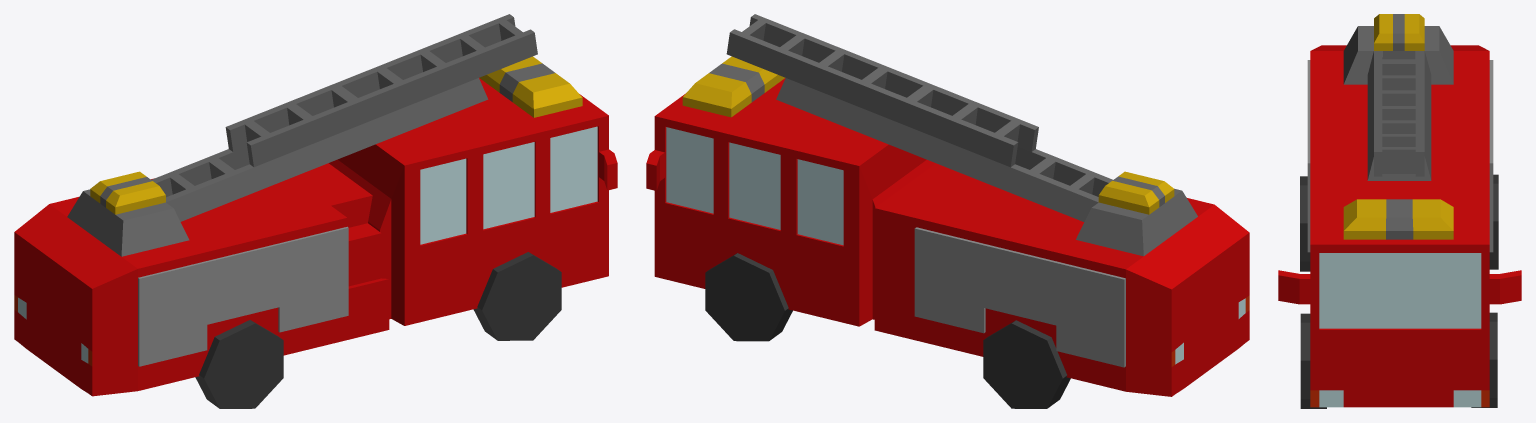
The model's file is firetruck.fbx.
3 renders of one model, left to right at view 1: azimuth 30°, elevation 25°; view 2: azimuth 150°, elevation 25°; view 3: azimuth 270°, elevation 25°, orthographic.
Visible parts, largest first — view 1: Cube, Cylinder.002, Cylinder.003; view 2: Cube, Cylinder.001, Cylinder; view 3: Cube, Cylinder.003, Cylinder, Cylinder.002, Cylinder.001.
Boxes of the visible parts, left/top/right/bottom form: Cube: left=14, top=14, right=617, bottom=396; Cylinder.002: left=195, top=320, right=283, bottom=408; Cylinder.003: left=473, top=252, right=561, bottom=340; Cube: left=646, top=14, right=1249, bottom=396; Cylinder.001: left=983, top=320, right=1070, bottom=408; Cylinder: left=705, top=253, right=792, bottom=341; Cube: left=1278, top=14, right=1521, bottom=407; Cylinder.003: left=1300, top=313, right=1326, bottom=408; Cylinder: left=1471, top=312, right=1497, bottom=407; Cylinder.002: left=1300, top=176, right=1310, bottom=271; Cylinder.001: left=1489, top=174, right=1498, bottom=269.
Size of the model in its own units: 10 by 5.09 by 4.07.
